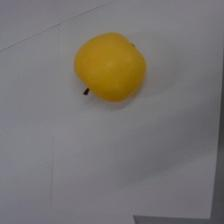yellow: (72, 30, 149, 106)
